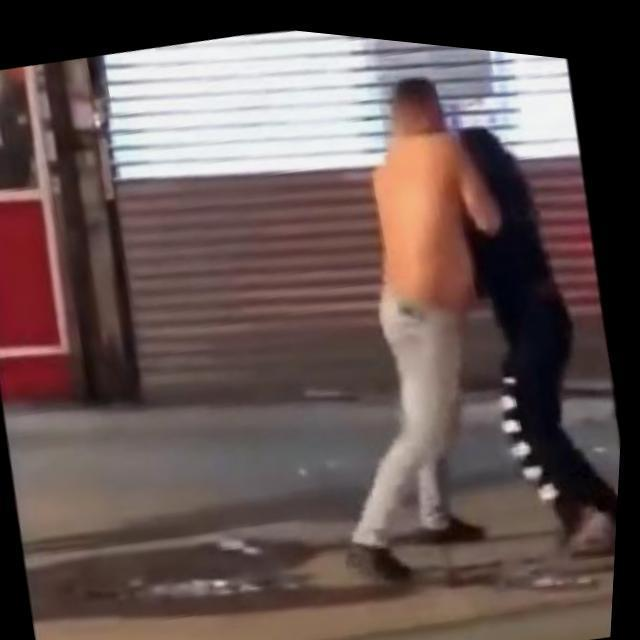fight: (260, 23, 640, 590)
